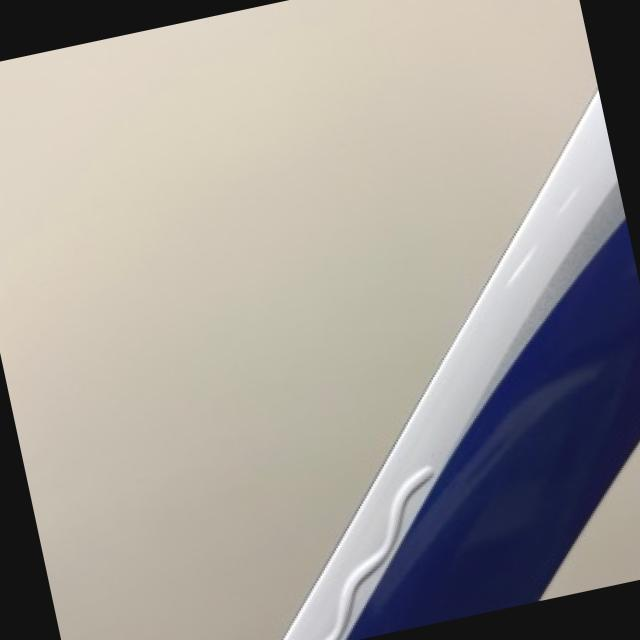healthy: (284, 47, 640, 640)
